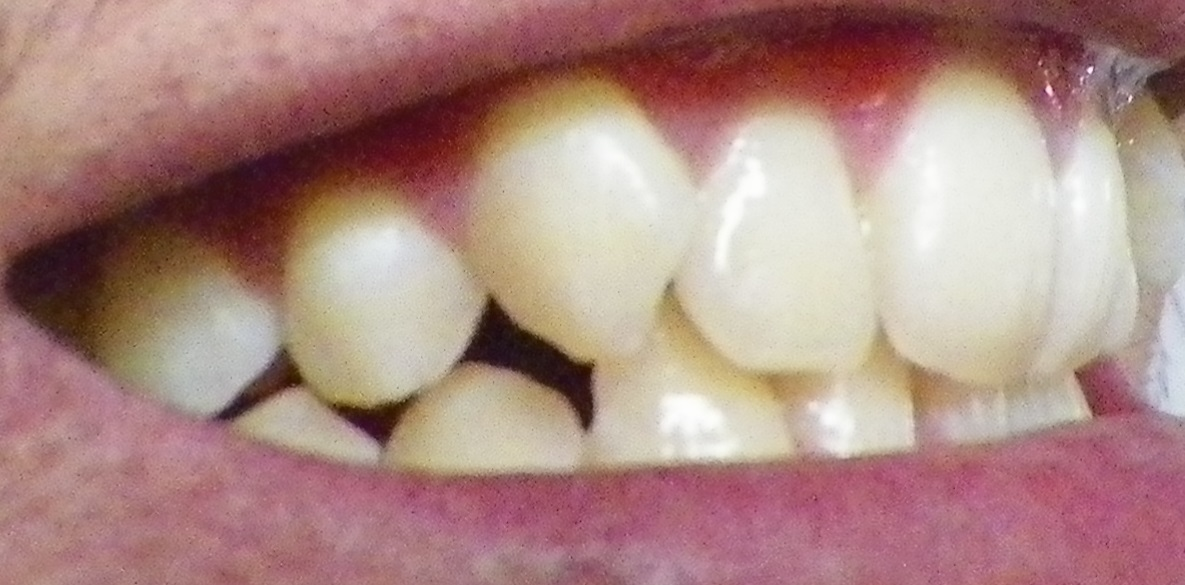boca: (78, 66, 1182, 469)
